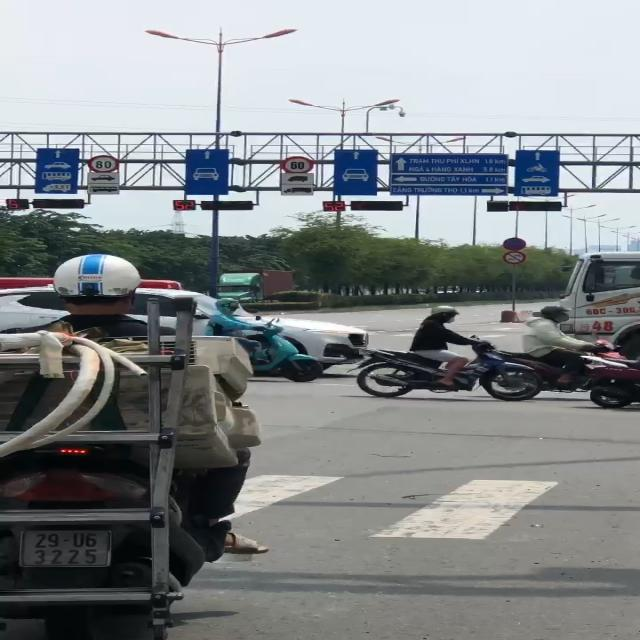Bien bao toc do toi da cho phep: (276, 153, 318, 176), (85, 153, 125, 174)
